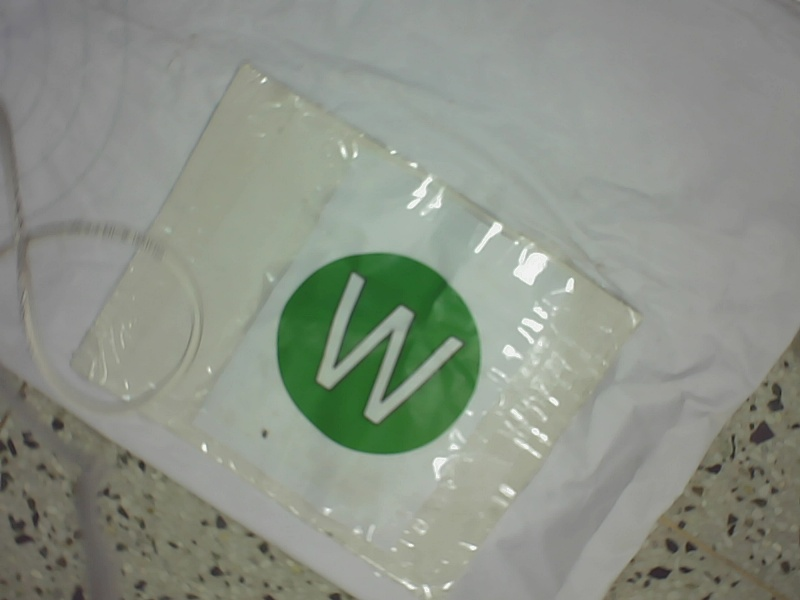areaB: (278, 248, 483, 459)
